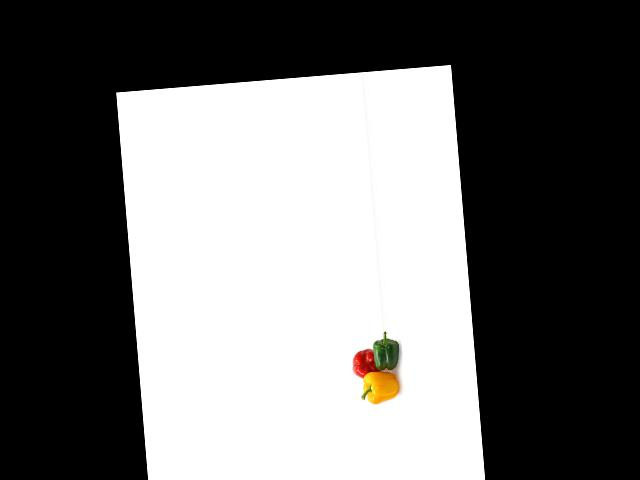bell_pepper: (368, 333, 401, 378)
